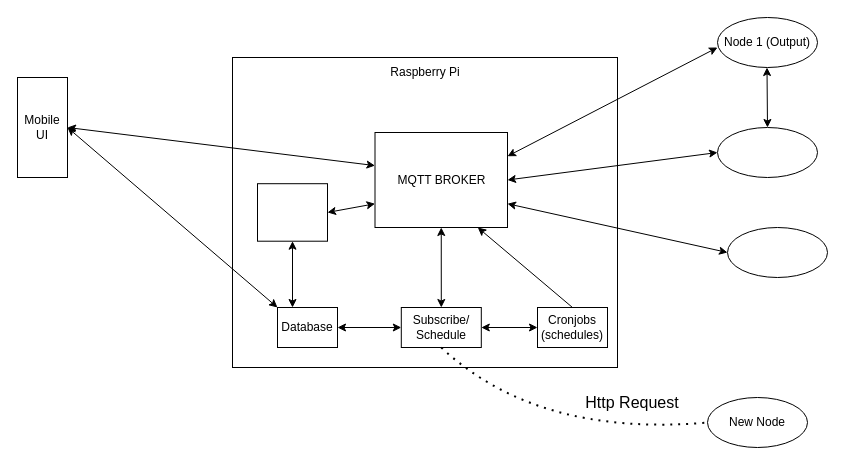
Image size: 845x465. Some labels were removed from this diagram. The shapes that lost their labels are listed below. From the top down, each one's centre as x and y in pixels, then its label:
At (767,152): "Node 2 (Input)".
At (292,212): "UI".
At (777,252): "Node 3 (Out put)".
